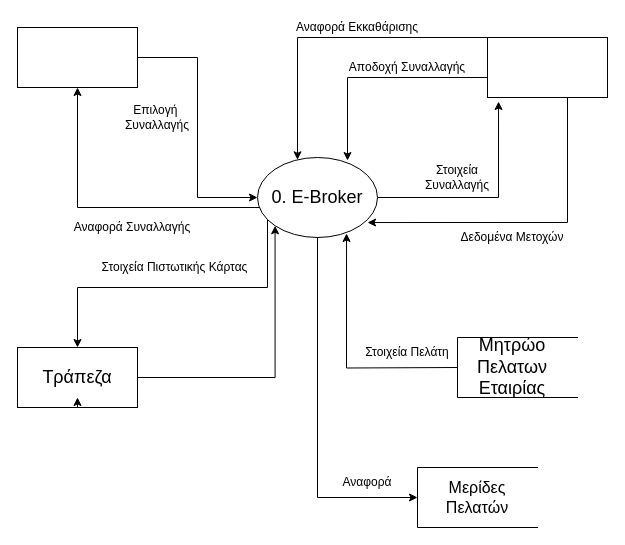
The diagram is 625 pixels wide and 545 high, and some of its shapes have lost their labels. Each missing label, with the centre of its shape:
Πελάτης: (77,57)
ΧΑΑ: (547,67)
